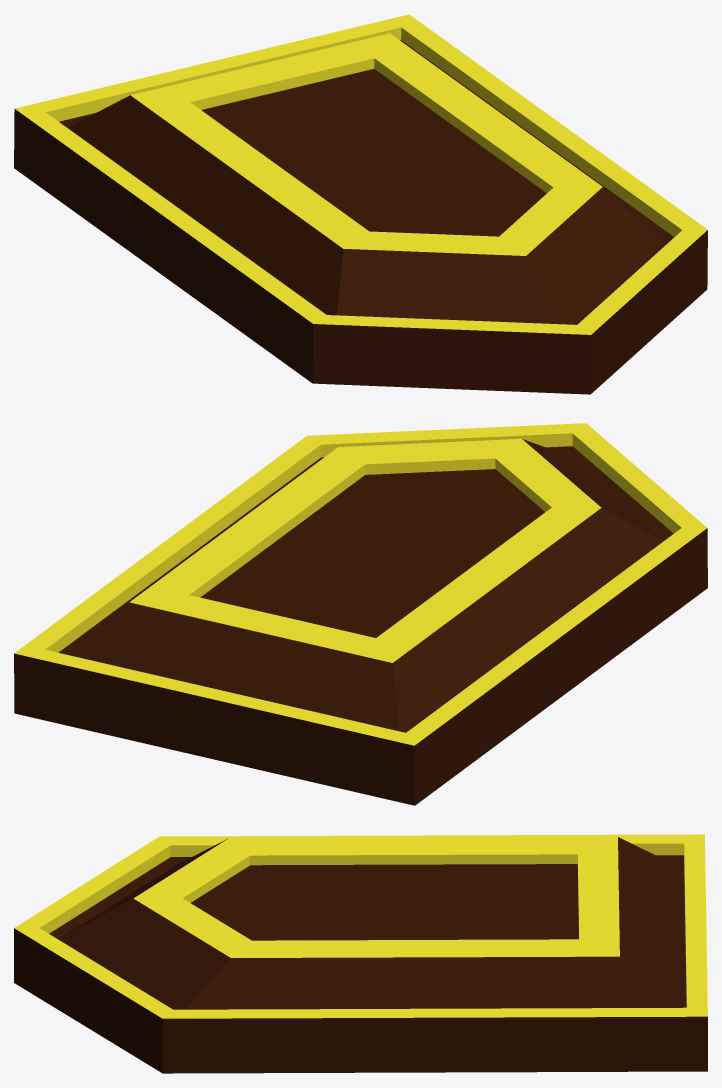
Rendered from Shield.fbx.
The picture shows the model from 3 angles, top to bottom: view 1: azimuth 30°, elevation 25°; view 2: azimuth 150°, elevation 25°; view 3: azimuth 270°, elevation 25°; orthographic projection. The views are drawn at different scales.
Visible parts, largest first — view 1: Shield; view 2: Shield; view 3: Shield.
Boxes of the visible parts, x1=… form: Shield: x1=14, y1=14, x2=707, y2=394; Shield: x1=14, y1=423, x2=707, y2=805; Shield: x1=14, y1=834, x2=707, y2=1073.
Bounding box in the file's own units: 77.67 × 20.65 × 126.
